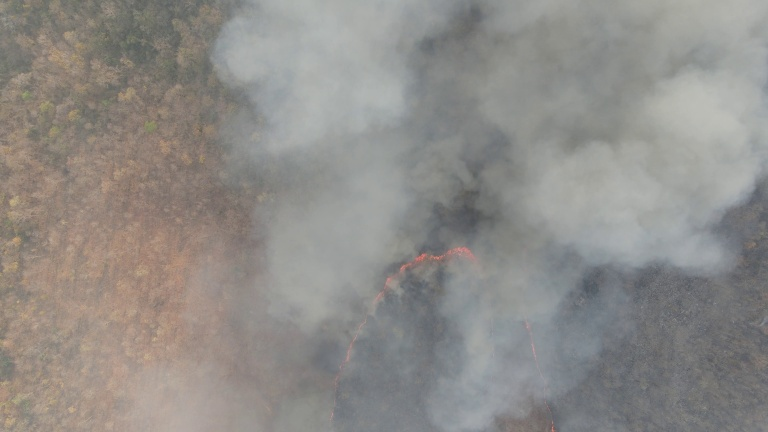fire: (324, 239, 485, 423), (512, 297, 561, 397), (537, 406, 577, 432)
smoke: (446, 1, 761, 397), (253, 1, 428, 306)
